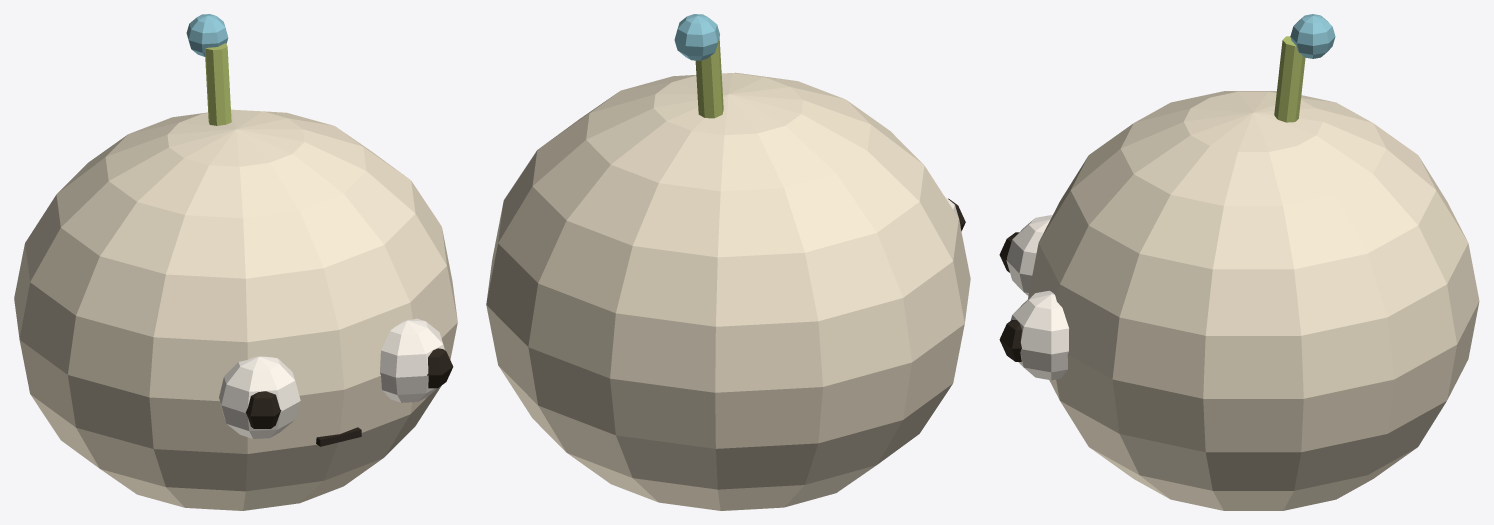
Rendered from verity.glb.
3 views of the same model, side by side, from view 1: azimuth 30°, elevation 25°; view 2: azimuth 150°, elevation 25°; view 3: azimuth 270°, elevation 25° (orthographic). The views are drawn at different scales.
Visible parts, largest first — view 1: verity; view 2: verity; view 3: verity.
Boxes of the visible parts, x1,y1,x2,y2 form: verity: (14,14,457,510); verity: (486,14,970,510); verity: (999,14,1479,510).
Bounding box in the file's own units: 0.6961 × 0.786 × 0.7222.
